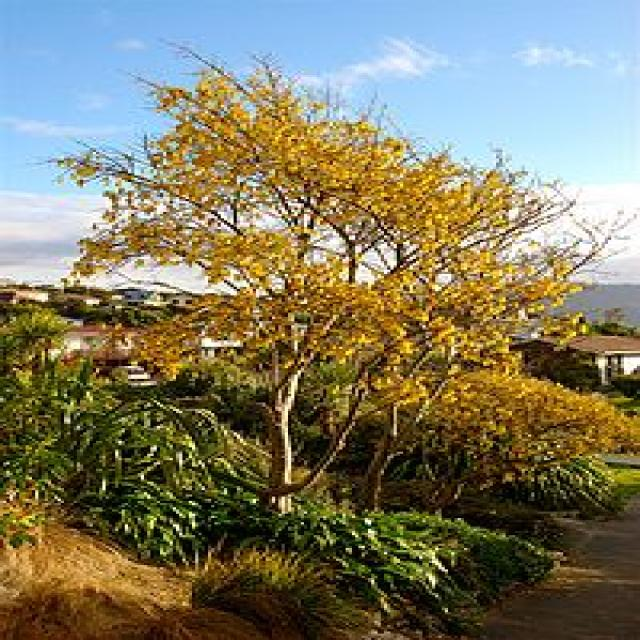Kowhai: (39, 75, 640, 522)
